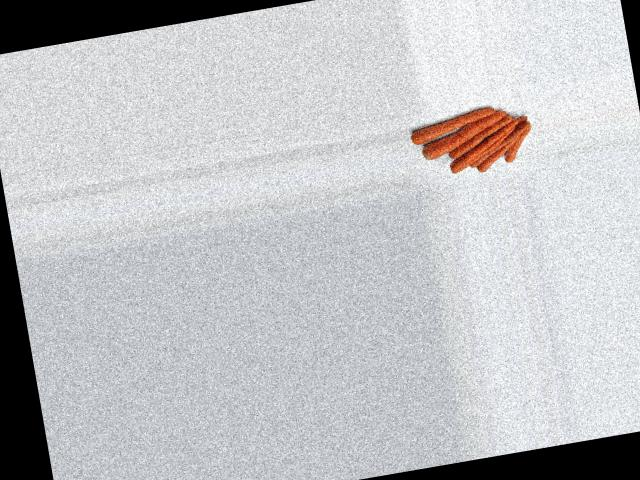carrot: (501, 117, 540, 169)
